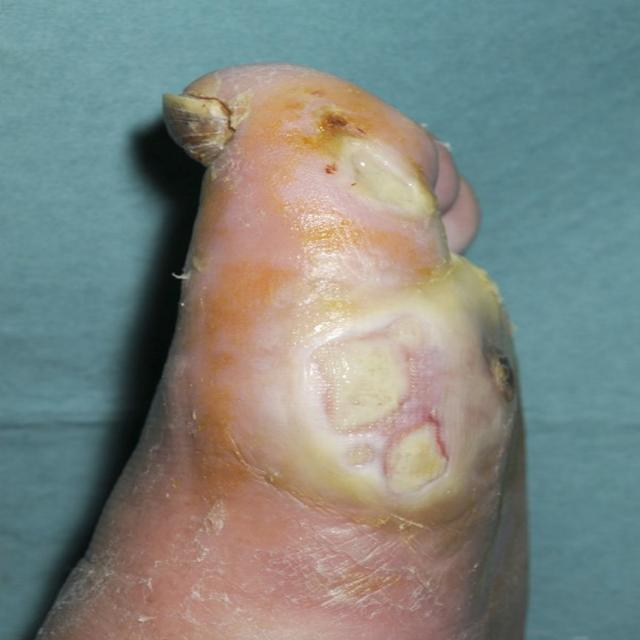wound: (274, 126, 531, 508)
